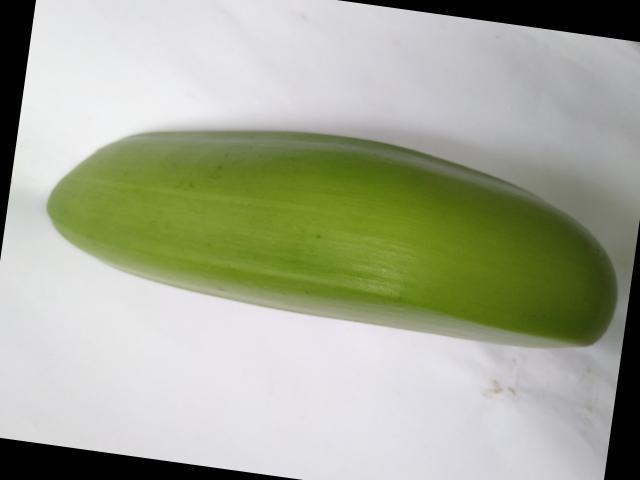freshunripe: (40, 114, 639, 360)
